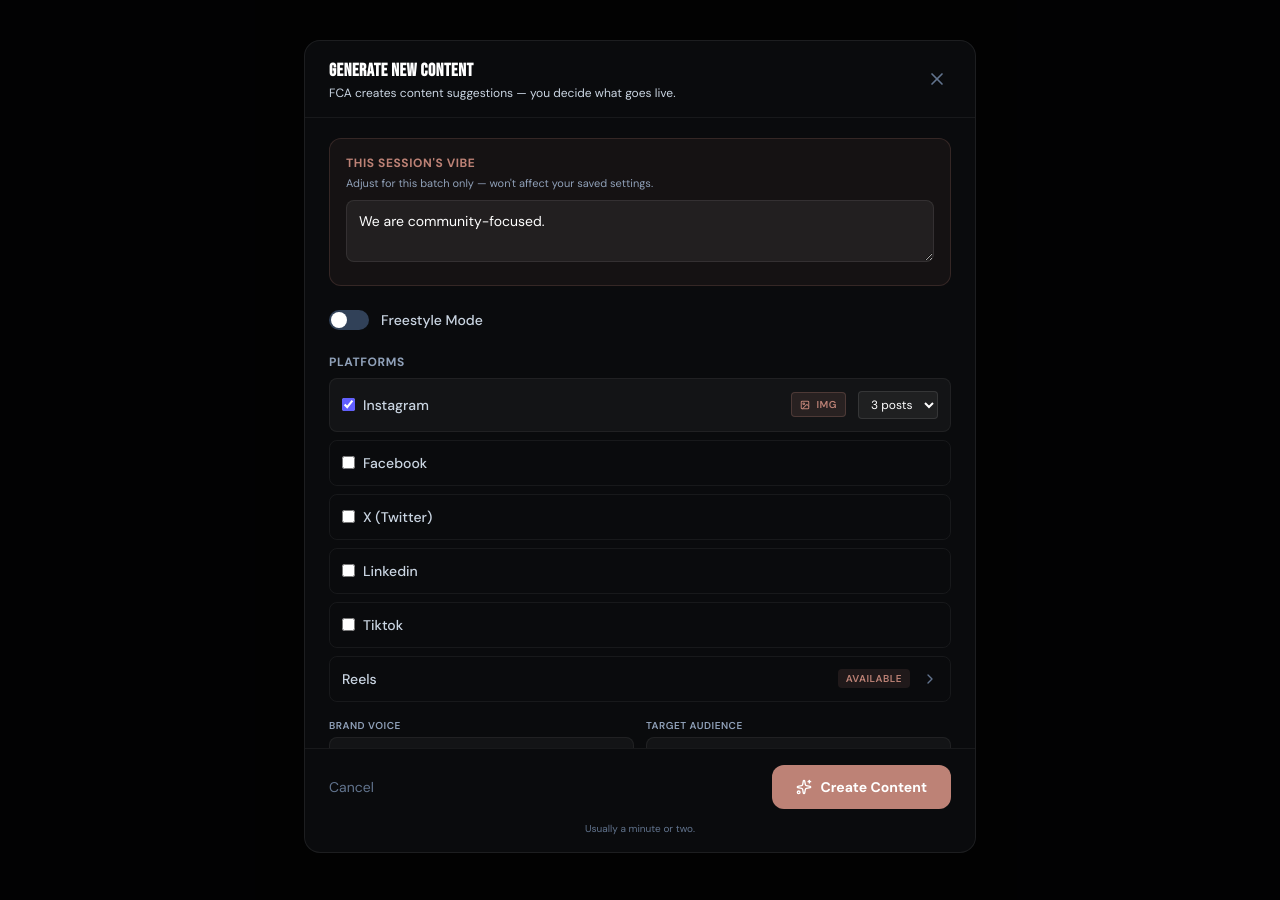
Scenario: HQ 2026-09-21 item 2: entitlement refusals are shown, not closed as success › owner-initiated: trial limit reached → refused panel with its message, modal stays open
Click the button "Create Content" at [862, 787], box [772,765,951,809]
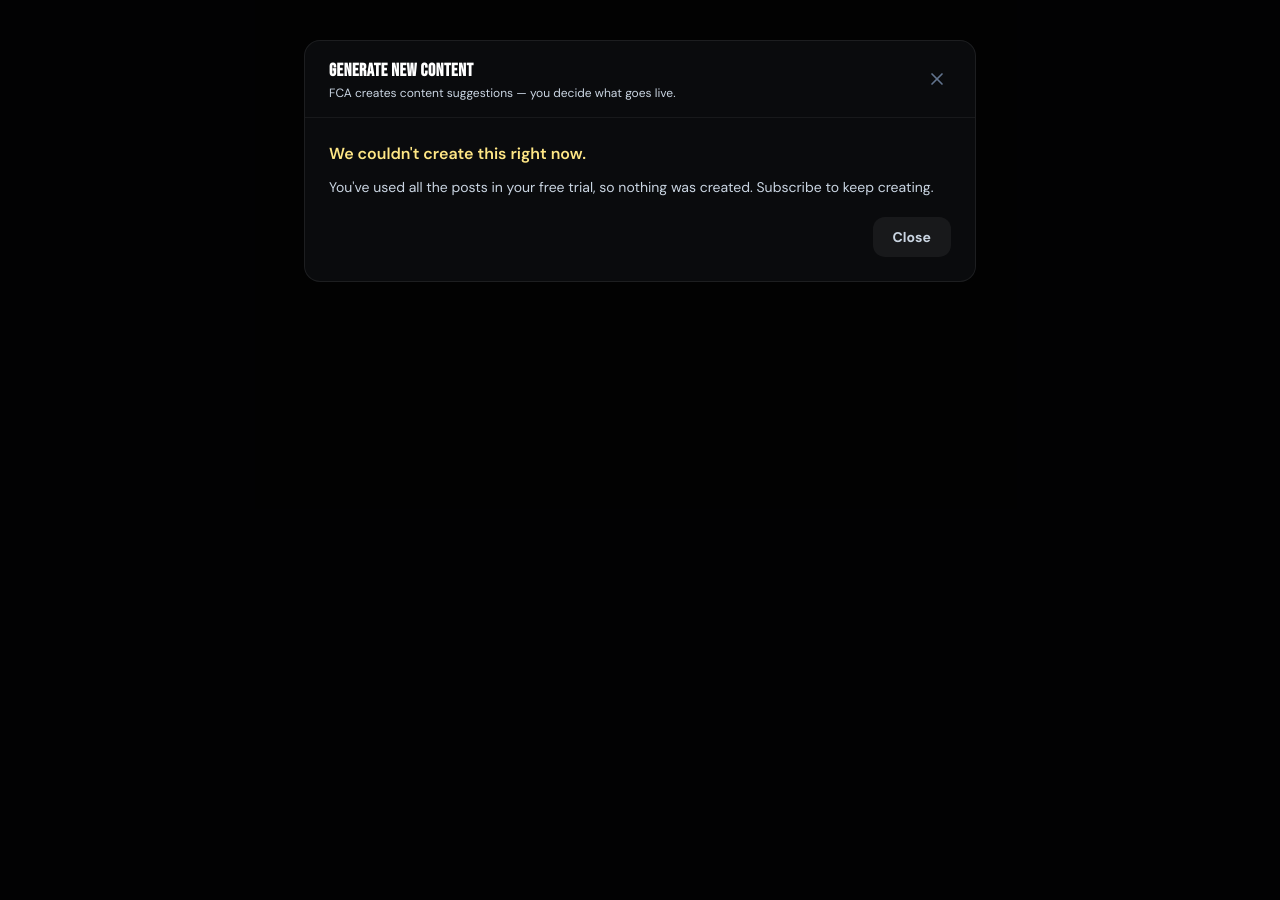
Check: the heading "We couldn't create this right now." is shown, box [329,143,586,164]
Check: the text "You've used all the posts in your free trial, so nothing was created. Subscribe to keep creating." is shown, box [329,178,933,196]
